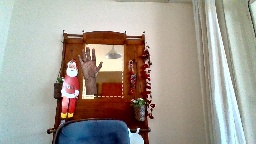Mano_aperta: (76, 44, 104, 80)
